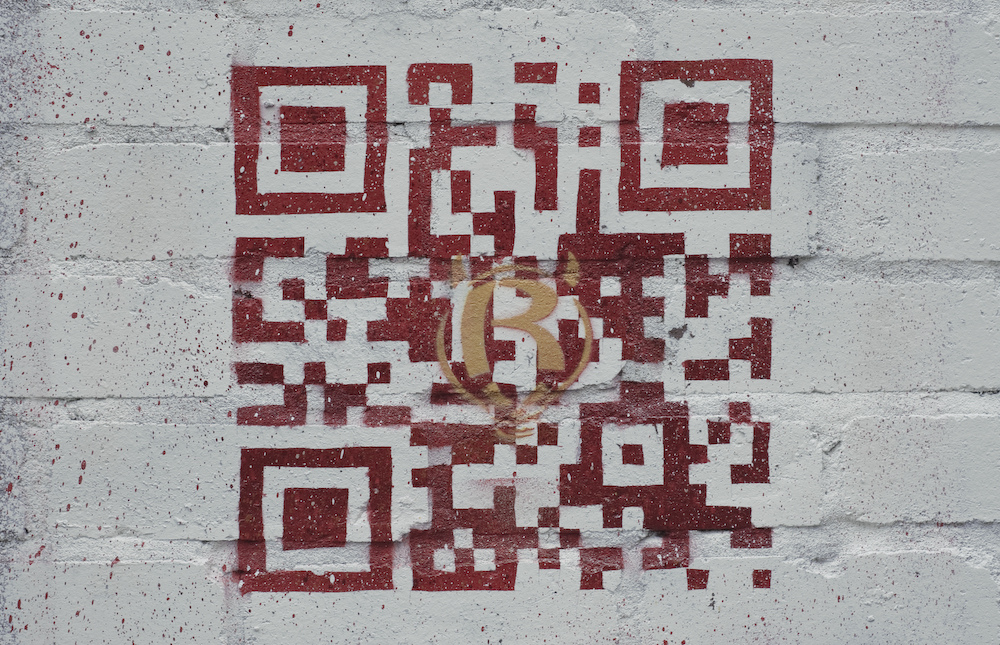QR-CODE: (230, 59, 772, 592)
